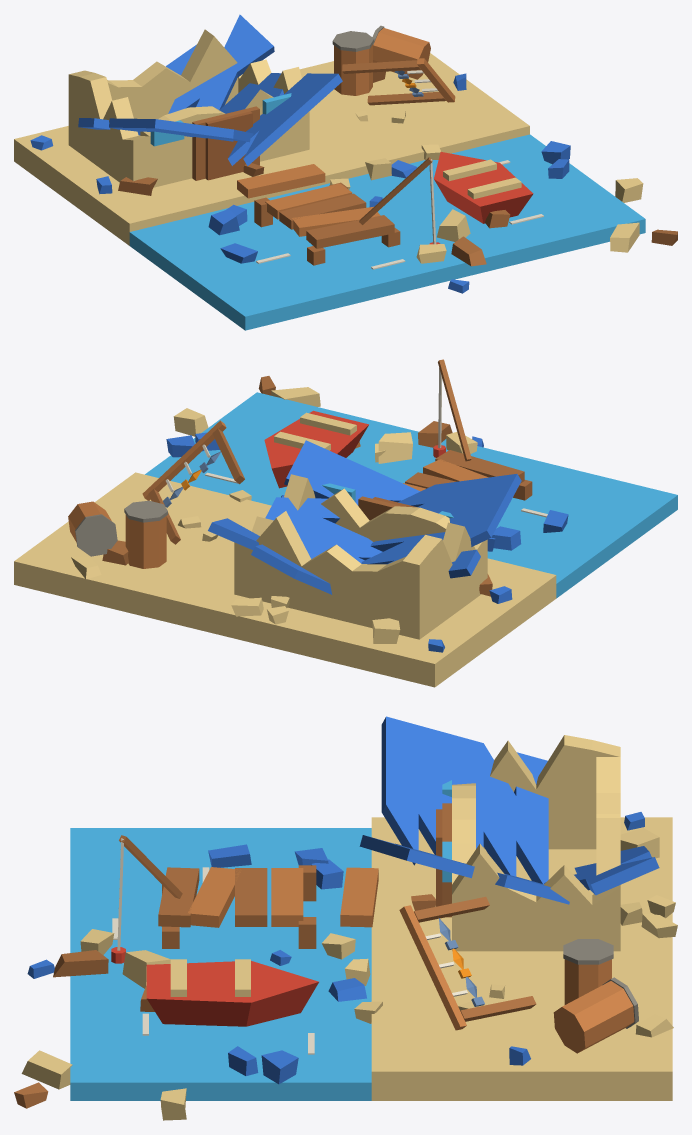
File: fishery_t2_v1_dmg2.glb
3 renders of one model, top to bottom at view 1: azimuth 30°, elevation 25°; view 2: azimuth 150°, elevation 25°; view 3: azimuth 270°, elevation 25°, orthographic. The views are drawn at different scales.
Parts seen in each view (by area): view 1: fishery_t2_v1_dmg2; view 2: fishery_t2_v1_dmg2; view 3: fishery_t2_v1_dmg2.
Part boxes in pixels (x1,y1,x2,y2): fishery_t2_v1_dmg2: [14, 14, 677, 330]; fishery_t2_v1_dmg2: [14, 359, 677, 687]; fishery_t2_v1_dmg2: [14, 716, 677, 1120].
Bounding box in the file's own units: 0.8167 × 0.2061 × 0.8268.
Materials: 1 (1 with a texture image).
